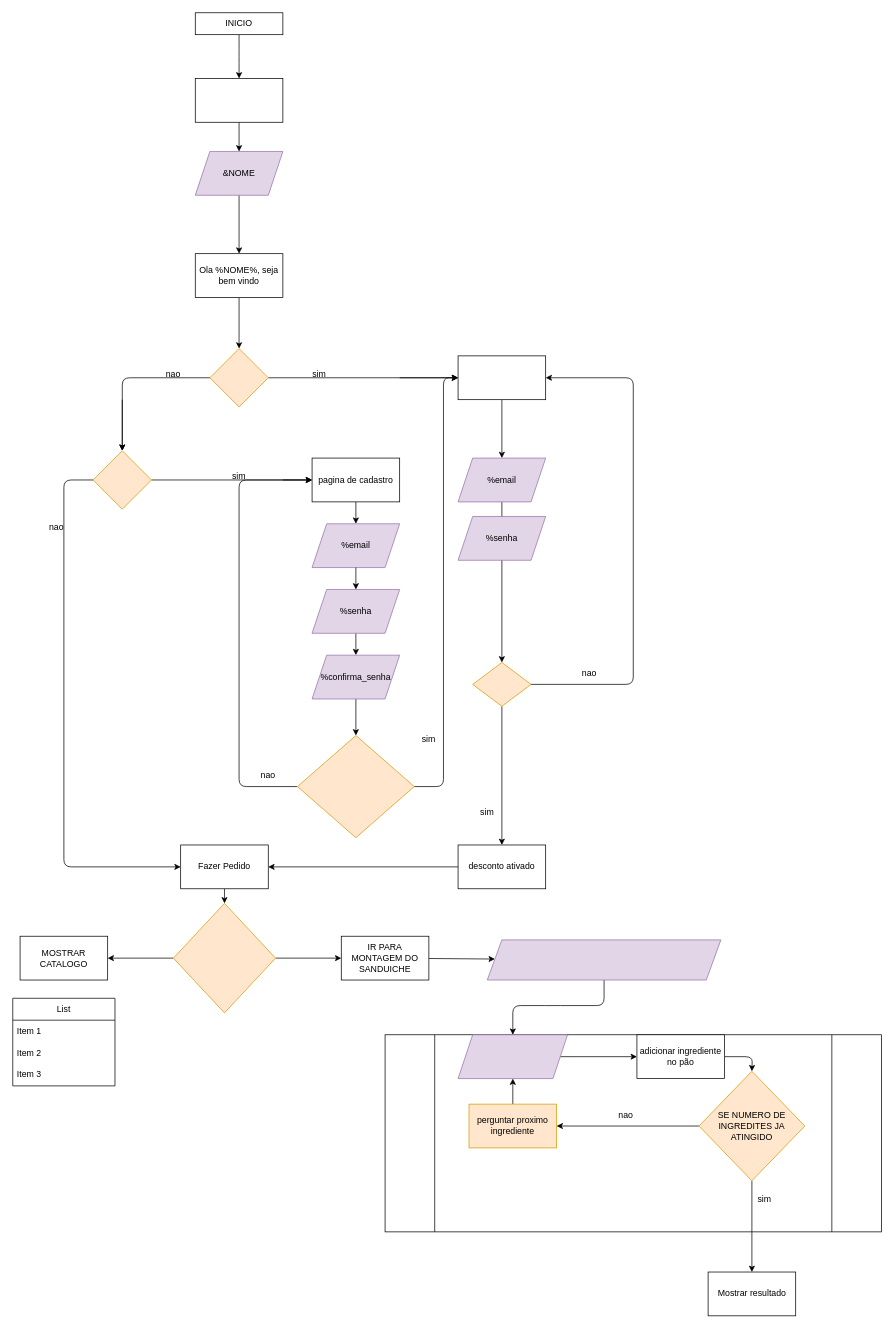
This 894x1329 diagram has some shape labels left out. The shapes that lost their labels are listed below. From the top down, each one's centre as x and y in pixels, then its label:
At point (239, 100): "PE RGUNTAR O NOME".
At point (238, 377): "Voce ja é cliente".
At point (501, 377): "pagina de login".
At point (121, 479): "quer fazer o cadastro?".
At point (501, 684): "Dados corretos".
At point (355, 786): "TODOS OS DADOS CORRETO".
At point (224, 958): "QUER PEDIR UM LANCHE PRÉ-MONTADO".
At point (604, 959): "%QUANTOS_INGREDIENTES NO SANDUICHE".
At point (512, 1056): "%ingrediente".
